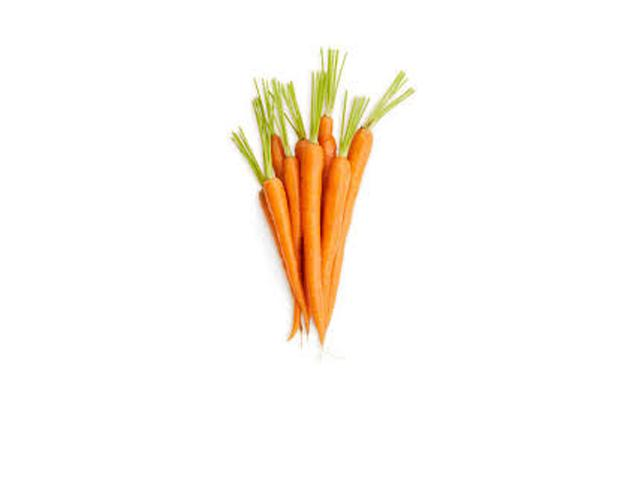carrot: (245, 166, 317, 325)
